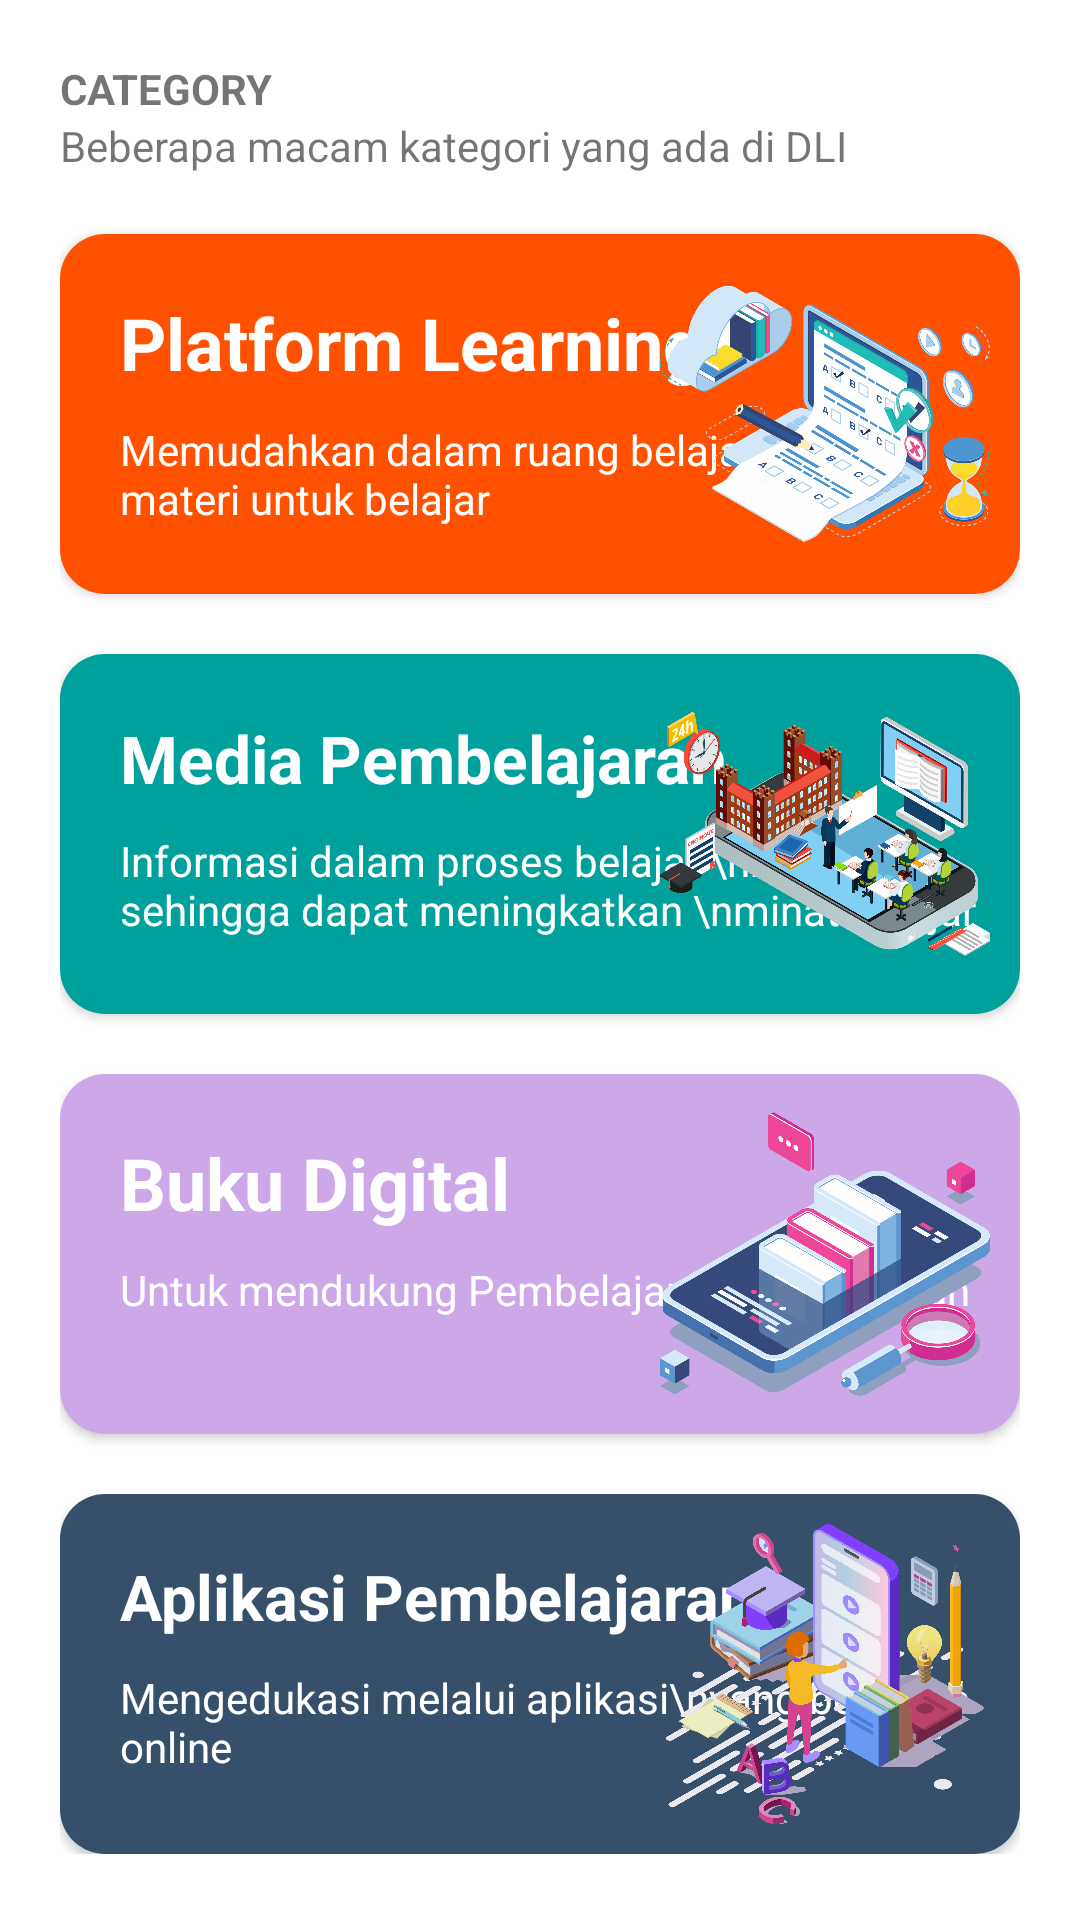

Where icons sit on this 1080x1920 app screen, as (x1, y1, x2, y2):
digitalbook: (660, 1112, 990, 1396)
